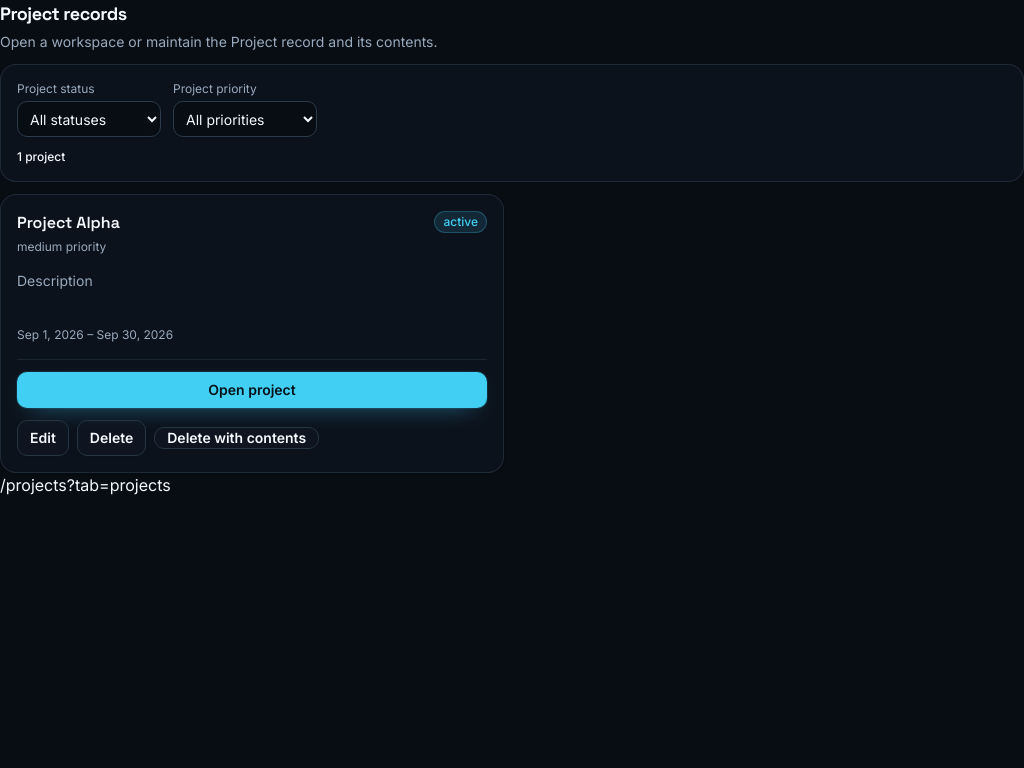
Delete project and contents (mocked backend/jsdom) › keeps preview failures open and disabled with manual retry
Click the button with aria-label "Delete project and contents: Project Alpha" at (237, 438), box [154, 427, 319, 449]
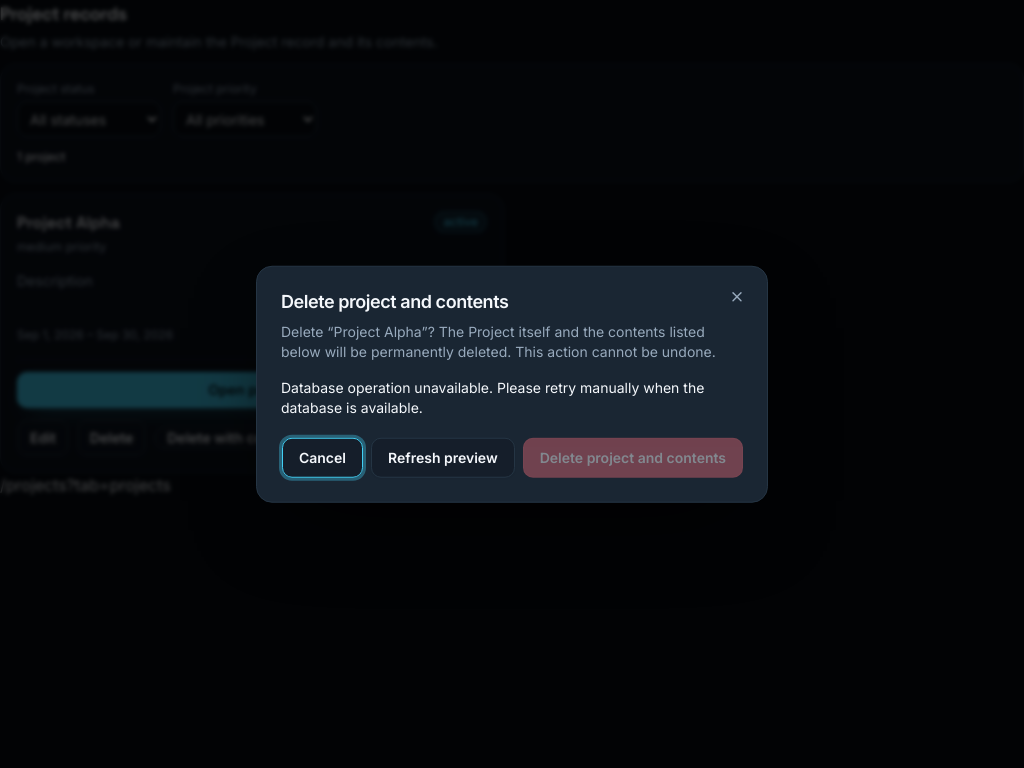
Expected: the message is shown, [281, 377, 743, 417]
Expected: the message shows "Database operation unavailable", [281, 378, 704, 415]
Expected: the button "Delete project and contents" is disabled, [523, 437, 743, 477]
Click the button "Refresh preview" at (443, 457), box [371, 437, 515, 477]
(page scrolled)
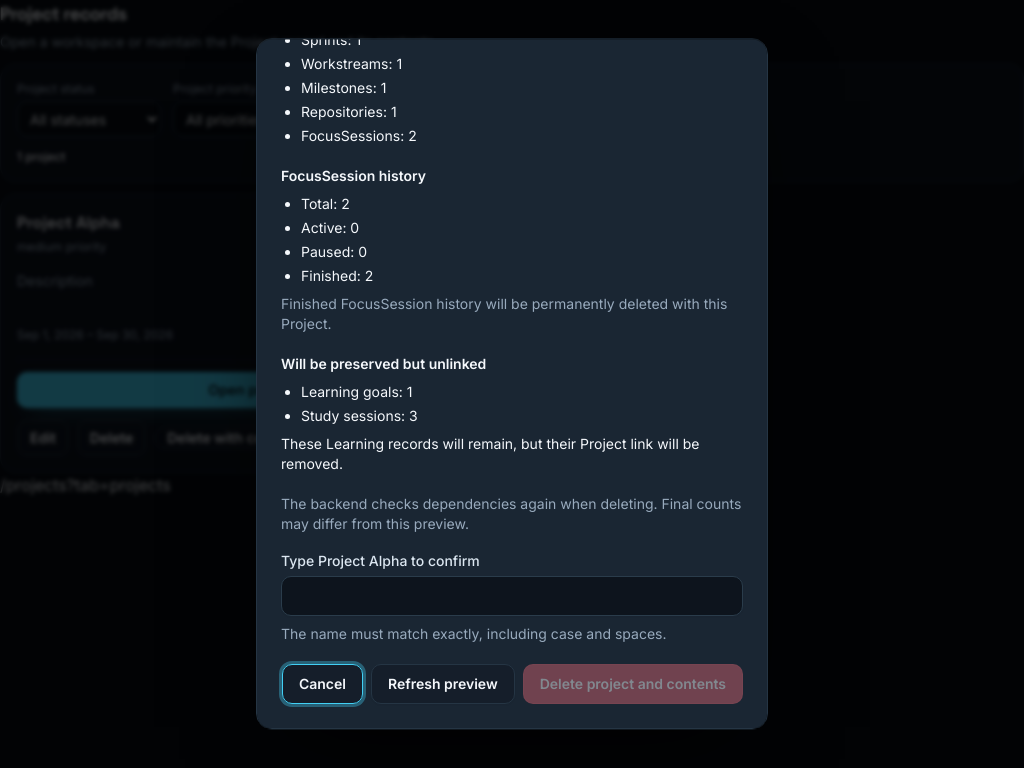
Expected: the field is shown, [281, 576, 743, 616]
